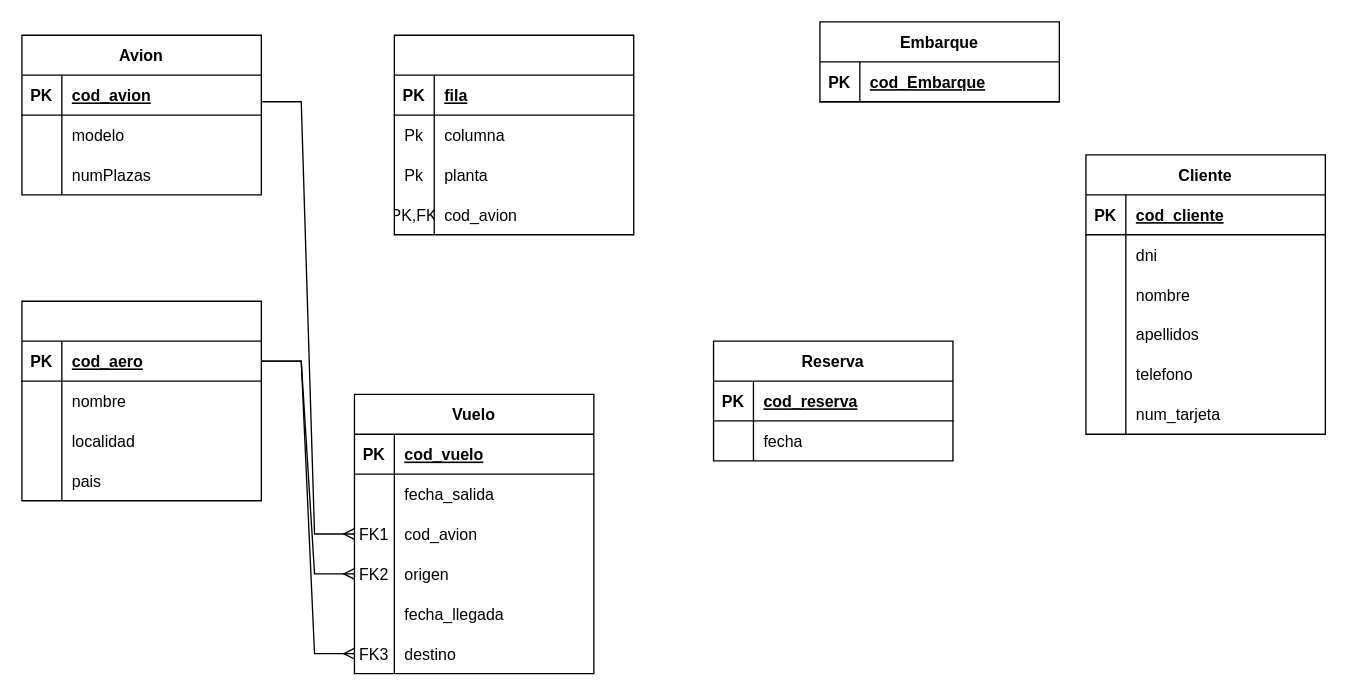
Image size: 1347x696. Some labels were removed from this diagram. The box of each missing label's shape, as (x1, y1, x2, y2) in pixels:
Aeropuerto: (21, 300, 261, 501)
Asiento: (393, 34, 634, 235)
